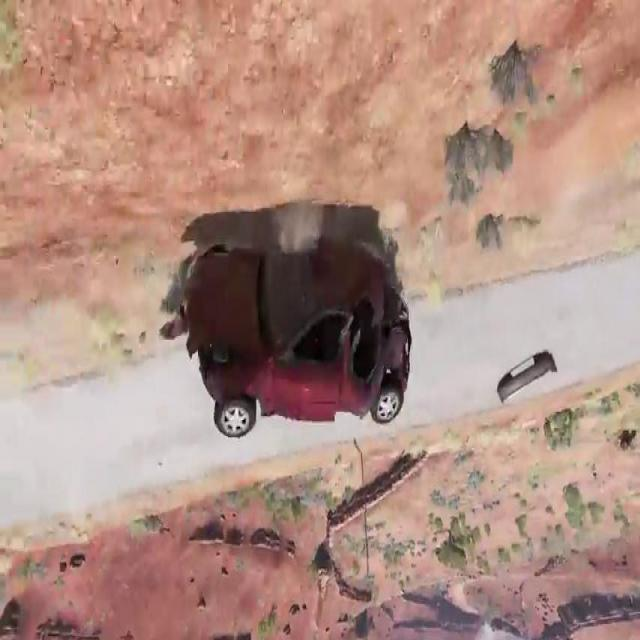severe: (169, 238, 414, 448)
